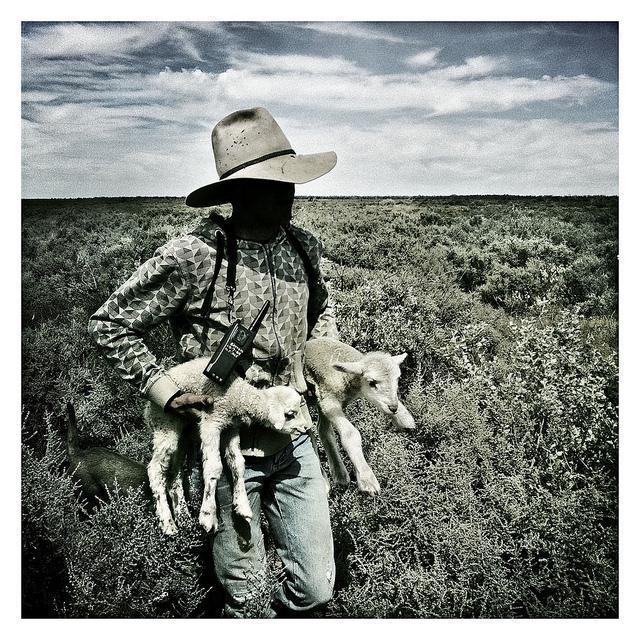Sheep: (144, 357, 314, 539), (305, 340, 419, 493)
